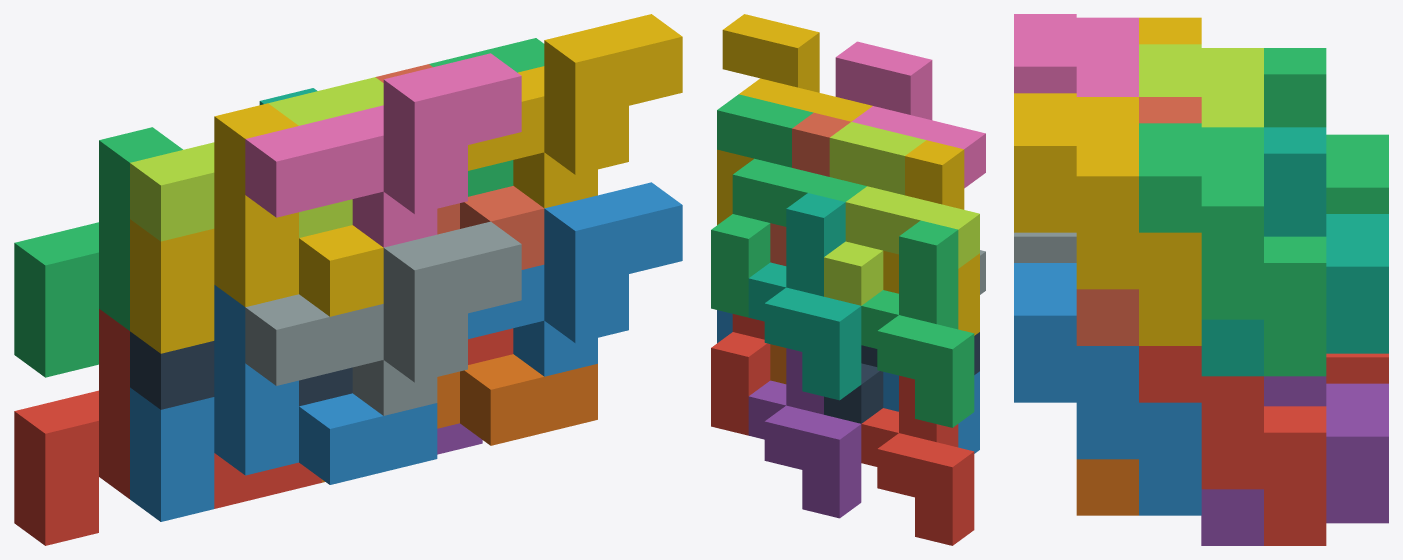
File: tiling.obj
3 renders of one model, left to right at view 1: azimuth 30°, elevation 25°; view 2: azimuth 150°, elevation 25°; view 3: azimuth 270°, elevation 25°, orthographic. The views are drawn at different scales.
Parts seen in each view (by area): view 1: copy_2_domain_4, copy_1_domain_2, copy_2_domain_2, copy_1_domain_4, copy_2_domain_8, copy_2_domain_6, copy_1_domain_1, copy_1_domain_3, copy_2_domain_3, copy_1_domain_6, copy_2_domain_1, copy_1_domain_8 (+3 smaller); view 2: copy_1_domain_3, copy_2_domain_7, copy_1_domain_7, copy_2_domain_3, copy_1_domain_1, copy_1_domain_5, copy_2_domain_8, copy_2_domain_4, copy_1_domain_4, copy_2_domain_5, copy_1_domain_8, copy_2_domain_1 (+3 smaller); view 3: copy_2_domain_8, copy_2_domain_7, copy_2_domain_6, copy_2_domain_5, copy_1_domain_7, copy_1_domain_5, copy_1_domain_3, copy_2_domain_4, copy_2_domain_3, copy_1_domain_8, copy_1_domain_6, copy_1_domain_1 (+2 smaller).
Part boxes in pixels (x1,y1,x2,y2): copy_2_domain_4: [245, 53, 521, 247]; copy_1_domain_2: [130, 285, 437, 521]; copy_2_domain_2: [245, 221, 521, 415]; copy_1_domain_4: [130, 103, 383, 353]; copy_2_domain_8: [468, 14, 682, 208]; copy_2_domain_6: [468, 182, 682, 376]; copy_1_domain_1: [14, 309, 321, 545]; copy_1_domain_3: [14, 127, 182, 377]; copy_2_domain_3: [130, 77, 383, 241]; copy_1_domain_6: [321, 354, 597, 482]; copy_2_domain_1: [130, 331, 352, 409]; copy_1_domain_8: [375, 64, 544, 269]; copy_1_domain_3: [861, 220, 974, 427]; copy_2_domain_7: [711, 94, 866, 317]; copy_1_domain_7: [748, 193, 861, 400]; copy_2_domain_3: [824, 122, 979, 305]; copy_1_domain_1: [861, 375, 974, 545]; copy_1_domain_5: [748, 348, 861, 518]; copy_2_domain_8: [717, 14, 872, 224]; copy_2_domain_4: [835, 41, 985, 188]; copy_1_domain_4: [883, 140, 979, 335]; copy_2_domain_5: [711, 314, 770, 435]; copy_1_domain_8: [770, 112, 850, 265]; copy_2_domain_1: [824, 332, 979, 423]; copy_2_domain_8: [1014, 93, 1201, 345]; copy_2_domain_7: [1139, 123, 1326, 376]; copy_2_domain_6: [1014, 263, 1201, 515]; copy_2_domain_5: [1139, 346, 1326, 545]; copy_1_domain_7: [1201, 127, 1388, 376]; copy_1_domain_5: [1201, 376, 1388, 545]; copy_1_domain_3: [1264, 48, 1388, 213]; copy_2_domain_4: [1014, 14, 1138, 96]; copy_2_domain_3: [1139, 44, 1263, 127]; copy_1_domain_8: [1076, 97, 1201, 345]; copy_1_domain_6: [1076, 459, 1138, 515]; copy_1_domain_1: [1326, 353, 1388, 383].
Bounding box in the file's own units: 9 × 9 × 6.
